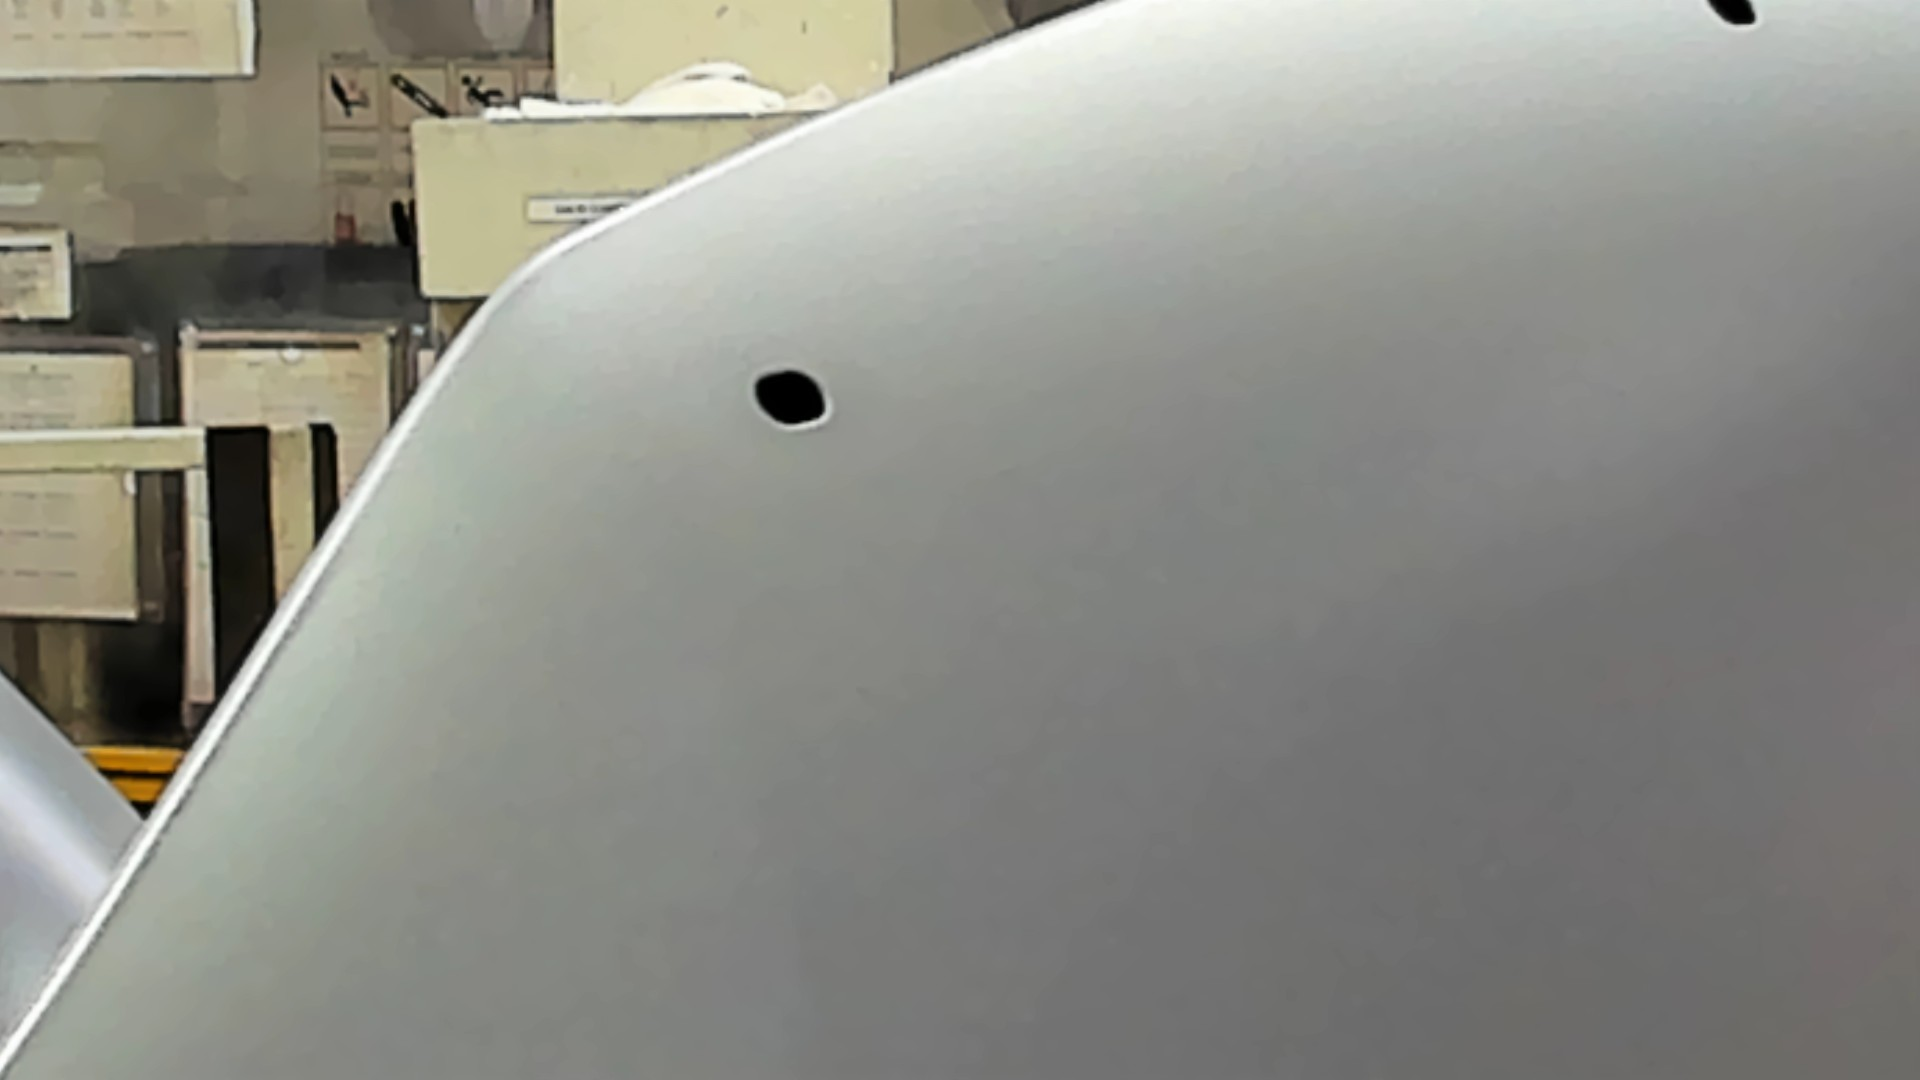amorfo: (750, 367, 833, 431), (1704, 1, 1771, 33)
